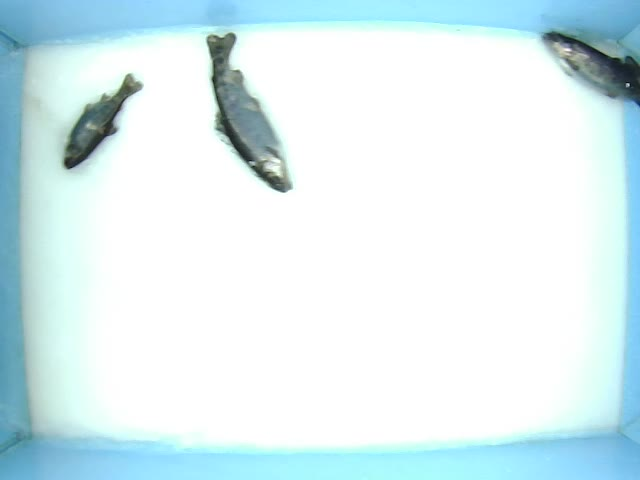fish: (202, 36, 312, 200), (50, 66, 152, 167), (533, 33, 640, 111)
